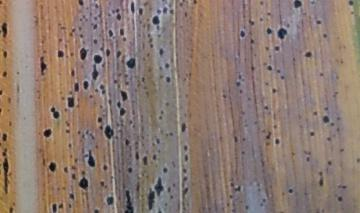tarspot: (1, 156, 11, 196), (122, 188, 137, 213), (153, 173, 165, 197), (48, 104, 62, 120), (85, 147, 95, 169), (146, 190, 156, 211), (103, 123, 114, 142), (37, 54, 46, 77), (78, 176, 90, 192), (258, 150, 266, 173), (91, 63, 99, 85), (146, 31, 155, 50), (125, 56, 137, 70), (65, 95, 77, 109), (276, 26, 287, 41), (1, 21, 10, 38), (104, 194, 116, 206), (93, 52, 104, 65), (42, 127, 53, 140), (85, 128, 96, 141), (78, 47, 88, 61), (317, 170, 325, 187), (119, 89, 129, 102), (49, 200, 59, 213), (151, 14, 160, 28), (118, 105, 127, 119), (128, 1, 136, 16), (291, 1, 304, 10), (48, 160, 57, 173), (68, 26, 77, 39), (67, 190, 77, 201), (181, 184, 190, 196), (141, 154, 148, 169), (312, 206, 327, 213), (265, 129, 273, 142), (107, 27, 115, 40), (101, 161, 110, 172), (73, 80, 80, 94), (161, 5, 169, 17), (115, 49, 123, 61), (239, 28, 246, 41), (180, 121, 187, 134), (264, 27, 274, 36), (125, 165, 135, 174), (115, 12, 124, 22), (56, 49, 65, 59), (79, 14, 89, 23), (157, 46, 165, 57), (1, 131, 9, 142), (1, 146, 9, 157), (104, 47, 112, 58), (82, 79, 89, 91), (69, 66, 76, 78), (99, 82, 105, 96), (99, 179, 108, 188), (273, 44, 281, 54), (232, 183, 242, 191), (302, 148, 312, 156), (322, 114, 329, 125), (137, 6, 144, 17), (304, 50, 313, 58), (335, 195, 344, 203), (273, 137, 281, 146), (247, 18, 255, 27), (181, 174, 189, 183), (261, 103, 270, 111), (91, 22, 99, 31), (156, 114, 165, 122), (331, 90, 339, 99), (134, 151, 141, 161), (117, 26, 124, 36), (96, 115, 103, 125), (70, 172, 77, 182), (62, 165, 69, 175), (79, 169, 89, 176), (170, 160, 177, 170), (336, 183, 347, 189), (336, 44, 347, 50), (338, 146, 346, 154), (308, 130, 316, 138), (1, 50, 9, 58), (7, 205, 15, 213), (63, 127, 71, 135), (151, 153, 159, 161), (266, 62, 273, 71), (164, 74, 171, 83), (124, 138, 131, 147), (77, 1, 86, 8), (67, 141, 74, 150), (107, 98, 114, 107), (232, 133, 238, 143), (183, 152, 189, 162), (58, 200, 64, 210), (155, 136, 161, 146), (326, 159, 333, 167), (286, 188, 294, 195), (304, 155, 311, 163), (169, 8, 176, 16), (220, 93, 228, 100), (2, 70, 9, 78), (5, 96, 12, 104), (308, 1, 316, 8), (182, 142, 188, 151), (92, 207, 101, 213), (164, 99, 170, 108), (122, 80, 131, 86), (80, 131, 86, 140), (335, 125, 341, 134), (355, 156, 360, 166), (322, 105, 329, 112), (318, 71, 325, 78), (258, 16, 265, 23), (270, 87, 277, 94), (239, 149, 246, 156), (248, 64, 255, 71), (158, 108, 165, 115), (123, 72, 130, 79), (116, 70, 123, 77), (263, 80, 270, 87), (338, 58, 345, 65), (158, 74, 165, 81), (272, 123, 279, 130), (266, 53, 273, 60), (314, 19, 322, 25), (322, 32, 328, 40), (155, 7, 161, 15), (182, 10, 188, 18), (163, 62, 171, 68), (114, 6, 120, 14), (162, 166, 168, 174), (112, 78, 118, 86), (92, 37, 98, 45), (98, 45, 104, 53), (57, 35, 63, 43), (140, 75, 146, 83), (93, 16, 99, 24), (8, 119, 13, 128), (73, 155, 78, 164), (325, 135, 331, 142), (279, 74, 285, 81), (181, 167, 188, 173), (228, 181, 235, 187), (225, 201, 231, 208), (98, 125, 104, 132), (71, 164, 78, 170), (78, 33, 85, 39), (92, 2, 98, 9), (67, 202, 73, 209), (98, 103, 105, 109), (69, 50, 75, 57), (334, 74, 341, 80), (334, 34, 341, 40), (168, 131, 175, 137), (97, 12, 103, 19), (116, 100, 121, 108), (235, 80, 240, 88), (144, 89, 149, 97), (131, 108, 136, 116), (164, 131, 169, 139), (312, 110, 318, 116), (249, 38, 255, 44), (266, 11, 272, 17), (258, 1, 264, 7), (228, 193, 234, 199), (243, 204, 249, 210), (258, 201, 264, 207), (238, 89, 244, 95), (141, 56, 147, 62), (142, 85, 148, 91), (349, 10, 356, 15), (265, 45, 270, 52), (275, 69, 282, 74), (291, 56, 296, 63), (146, 51, 151, 58), (127, 119, 134, 124), (237, 72, 241, 80), (329, 121, 334, 127), (335, 116, 341, 121), (348, 1, 354, 6), (241, 136, 247, 141), (261, 197, 267, 202), (88, 93, 93, 99), (131, 124, 136, 130), (251, 52, 257, 57), (192, 1, 199, 5), (156, 209, 163, 213), (75, 128, 79, 135), (290, 151, 295, 156), (122, 35, 125, 43), (1, 107, 4, 115), (107, 12, 111, 18), (1, 89, 4, 96), (110, 9, 115, 13)
